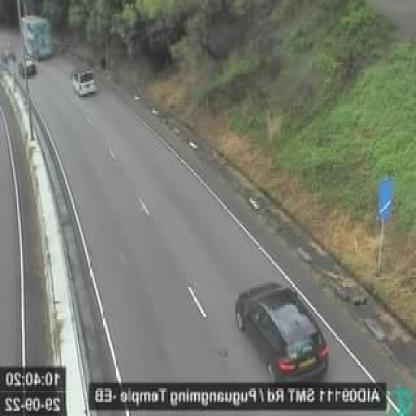Bus: (20, 14, 54, 62)
Car: (235, 276, 334, 392), (70, 64, 102, 95), (20, 57, 35, 76)
